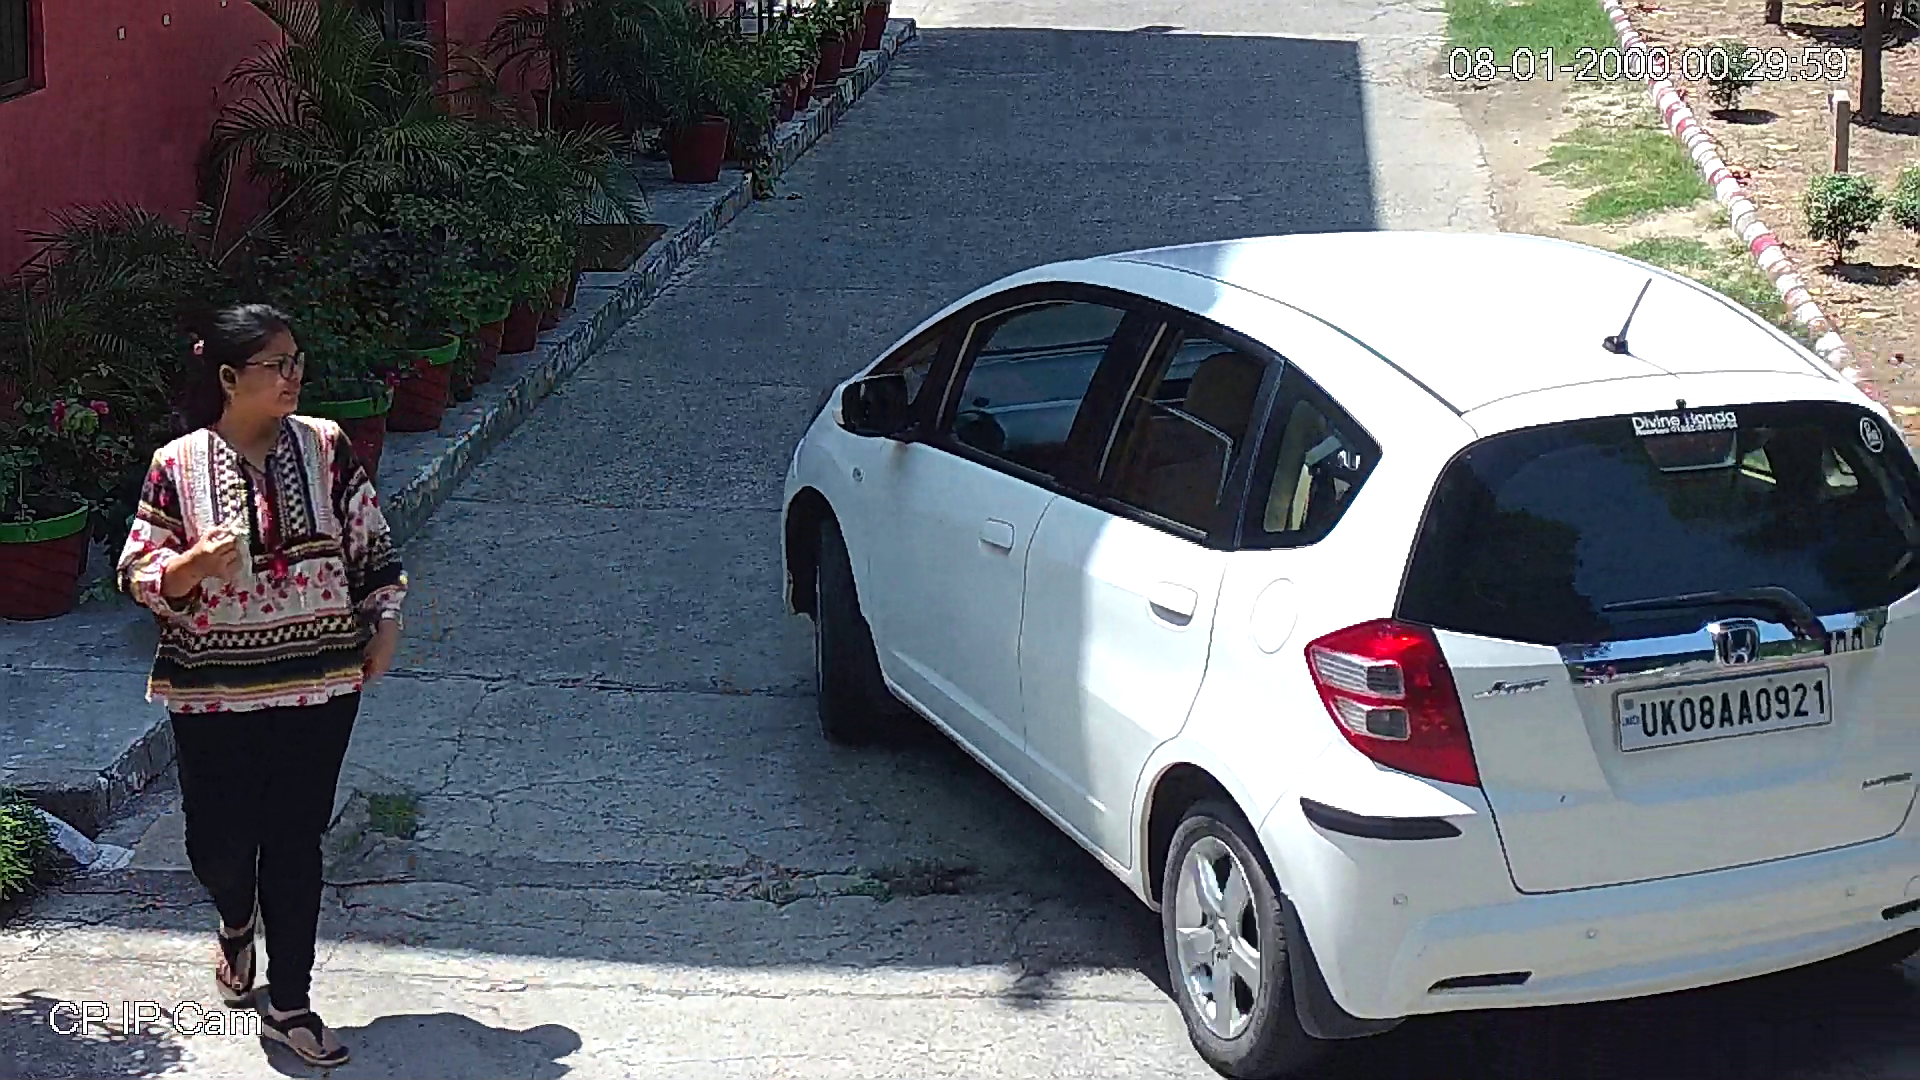plate: (1621, 668, 1833, 746)
